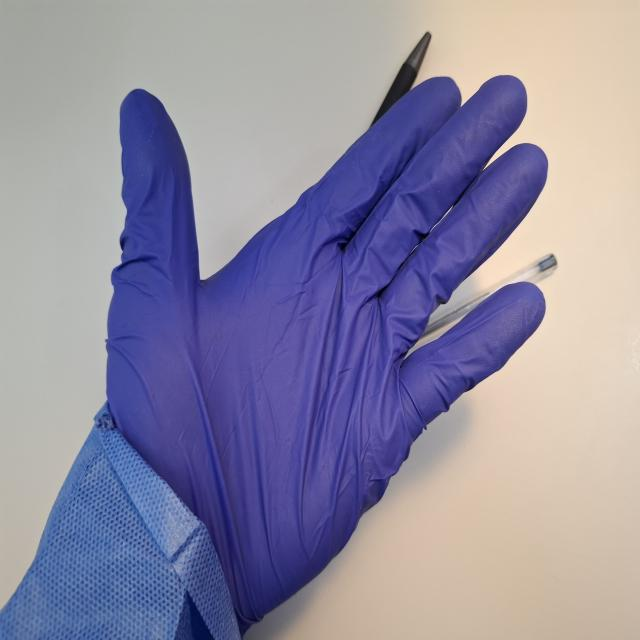glove_on: (101, 70, 549, 631)
